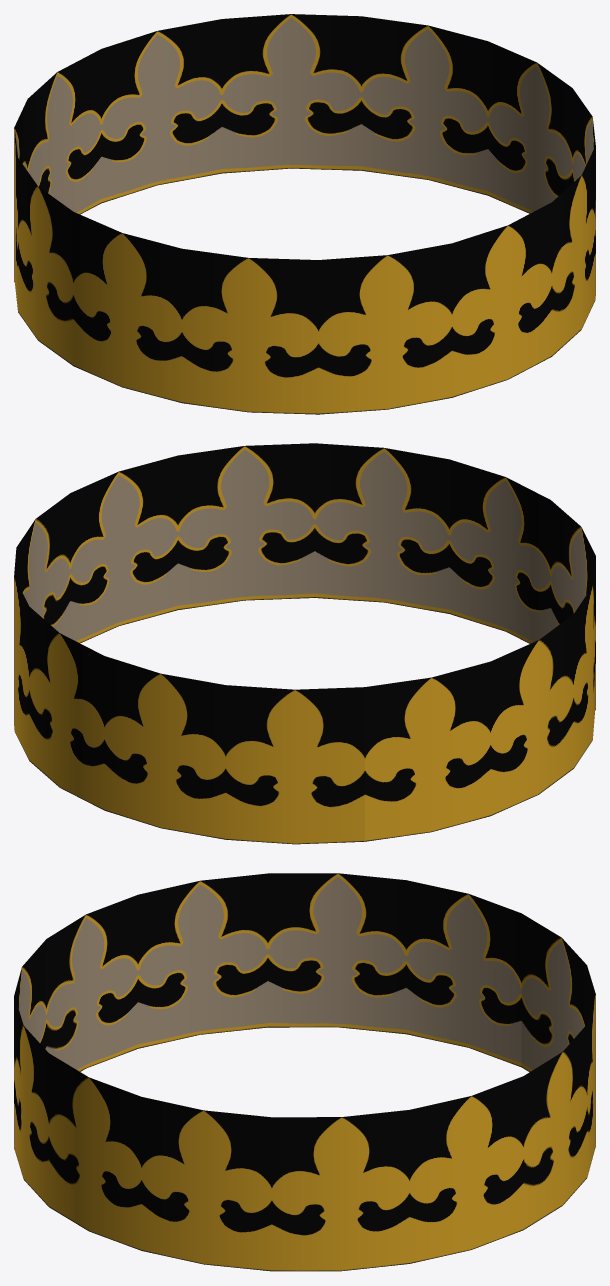
Rendered from crown.glb.
3 renders of one model, top to bottom at view 1: azimuth 30°, elevation 25°; view 2: azimuth 150°, elevation 25°; view 3: azimuth 270°, elevation 25°, orthographic.
Visible parts, largest first — view 1: Couronne_0; view 2: Couronne_0; view 3: Couronne_0.
Boxes of the visible parts, x1,y1,x2,y2 form: Couronne_0: [14, 14, 595, 414]; Couronne_0: [14, 443, 595, 844]; Couronne_0: [14, 873, 595, 1271].
Bounding box in the file's own units: 0.1808 × 0.0532 × 0.182.
1 material, 1 textured.
